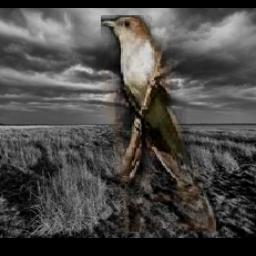Cuckoo: (101, 16, 216, 233)
